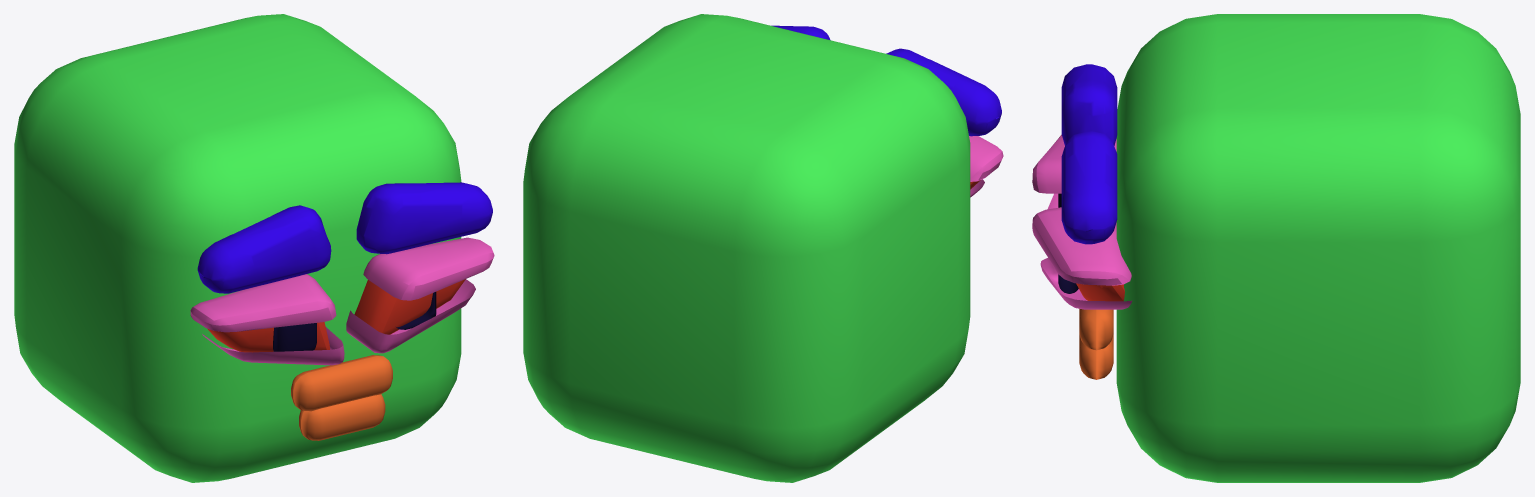
File: FaceCube00.glb
The picture shows the model from 3 angles, left to right: view 1: azimuth 30°, elevation 25°; view 2: azimuth 150°, elevation 25°; view 3: azimuth 270°, elevation 25°; orthographic projection. The views are drawn at different scales.
Visible parts, largest first — view 1: Head; view 2: Head; view 3: Head.
Part boxes in pixels (<box>): Head: <box>14,14,494,482</box>; Head: <box>523,14,1003,482</box>; Head: <box>1032,14,1520,482</box>.
Size of the model in its own units: 0.8 by 0.8 by 0.9668.
